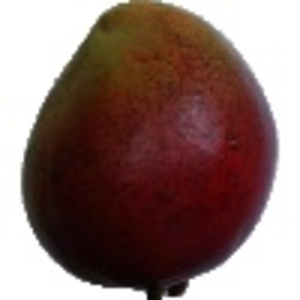manga: (22, 1, 280, 300)
